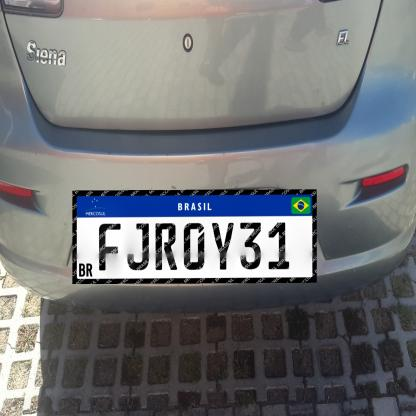PlacaM: (72, 189, 317, 284)
